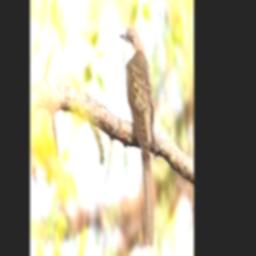Cuckoo: (119, 27, 155, 252)
